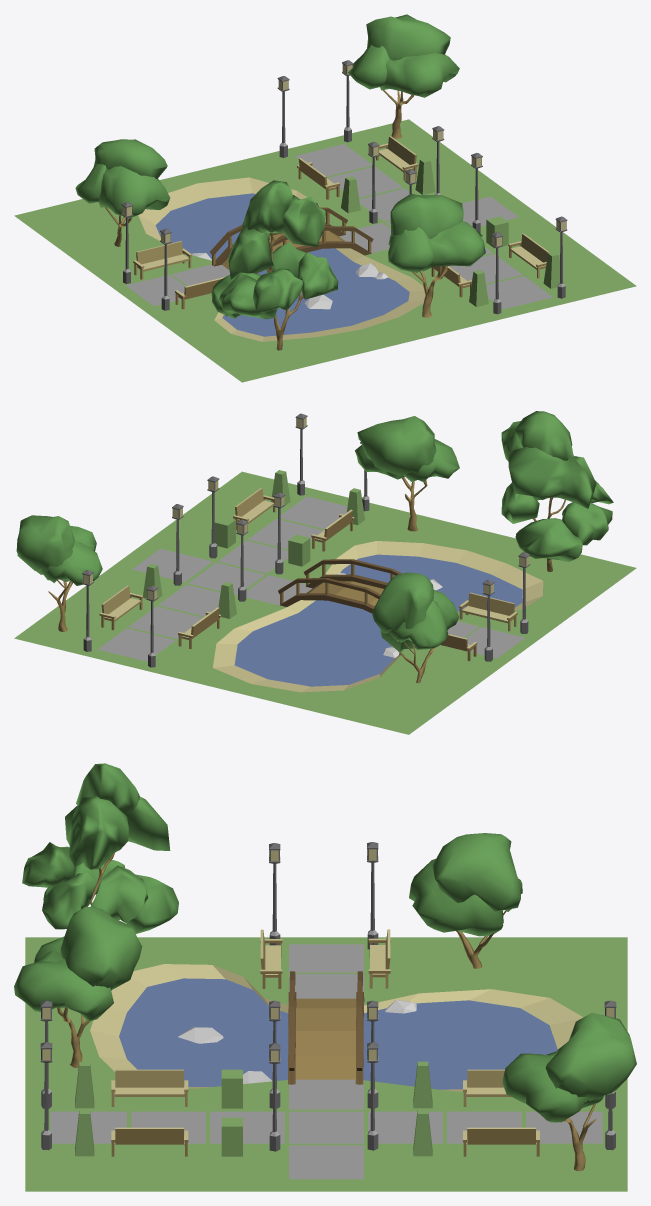
File: park3.glb
3 views of the same model, one above another, from view 1: azimuth 30°, elevation 25°; view 2: azimuth 150°, elevation 25°; view 3: azimuth 270°, elevation 25° (orthographic). The views are drawn at different scales.
Visible parts, largest first — view 1: park.020; view 2: park.020; view 3: park.020.
Part boxes in pixels (bbox=[...]): park.020: bbox=[14, 14, 636, 382]; park.020: bbox=[14, 411, 636, 734]; park.020: bbox=[14, 763, 636, 1191].
Bounding box in the file's own units: 16.7 × 7.6 × 16.56.
1 material, 1 textured.
